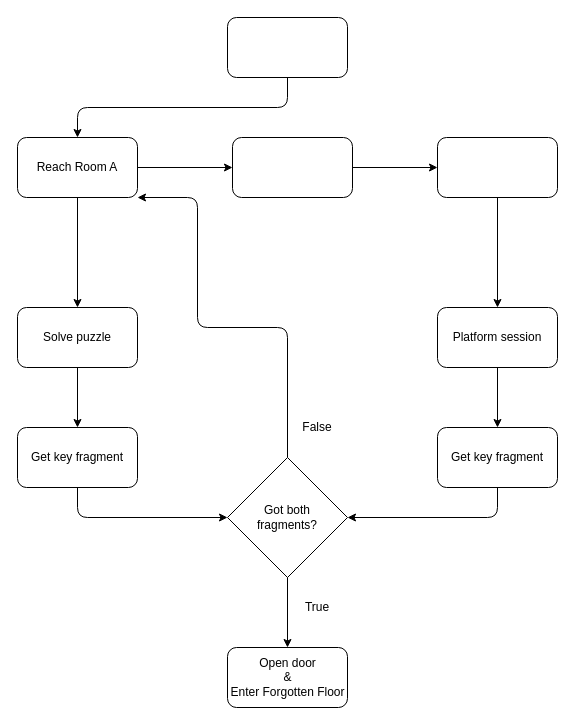
This 575x725 diagram has some shape labels left out. Here are the shapes that lost their labels. From the top down, the box of each, then its label:
(226, 16, 348, 78): Enter Main Room
(232, 136, 352, 198): Use moles tunnel
(436, 136, 558, 198): Reach Room B
